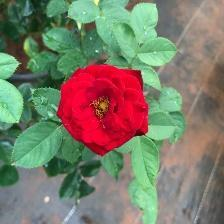rose: (58, 64, 152, 158)
